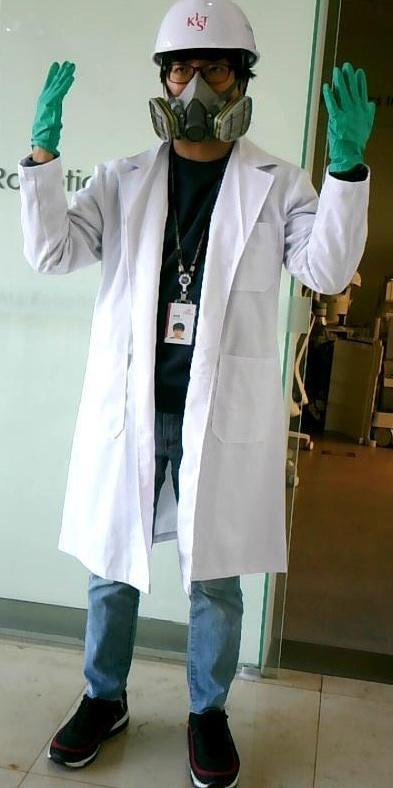lab_coat: (80, 157, 292, 576)
